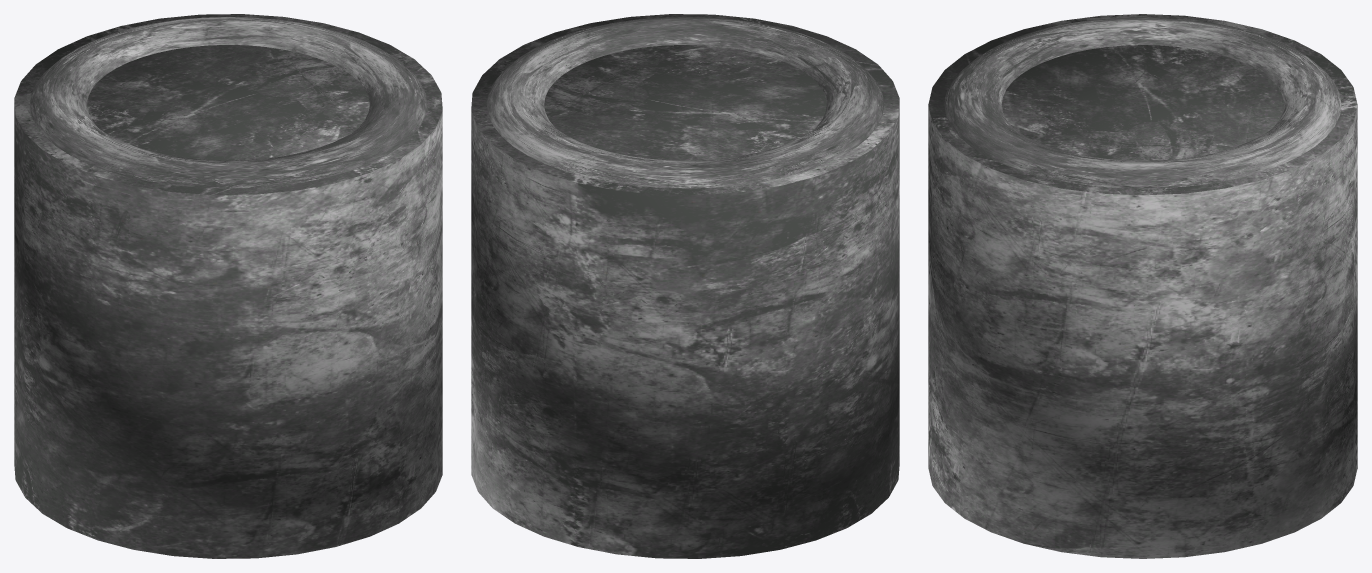
File: abyss_oceanlight.obj
The picture shows the model from 3 angles, left to right: view 1: azimuth 30°, elevation 25°; view 2: azimuth 150°, elevation 25°; view 3: azimuth 270°, elevation 25°; orthographic projection.
Visible parts, largest first — view 1: Cylinder; view 2: Cylinder; view 3: Cylinder.
Boxes of the visible parts, x1,y1,x2,y2 form: Cylinder: [14, 14, 442, 558]; Cylinder: [471, 14, 899, 558]; Cylinder: [928, 14, 1357, 558].
Size of the model in its own units: 2 by 1.93 by 2.
